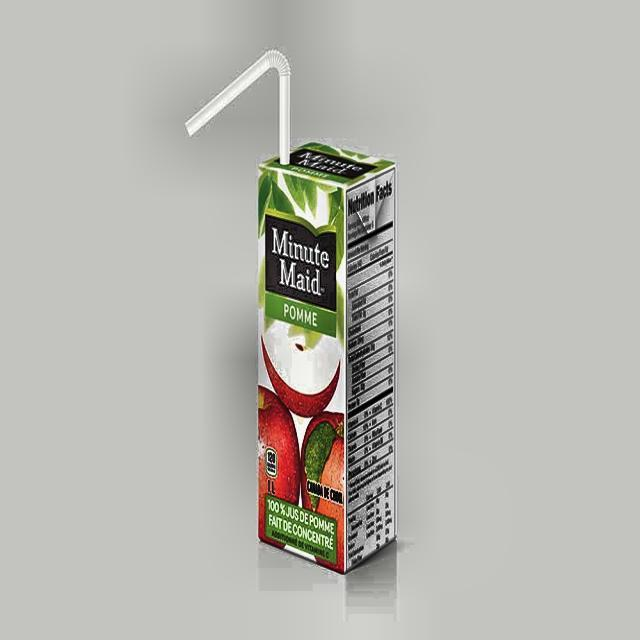cardboard: (255, 140, 398, 574)
